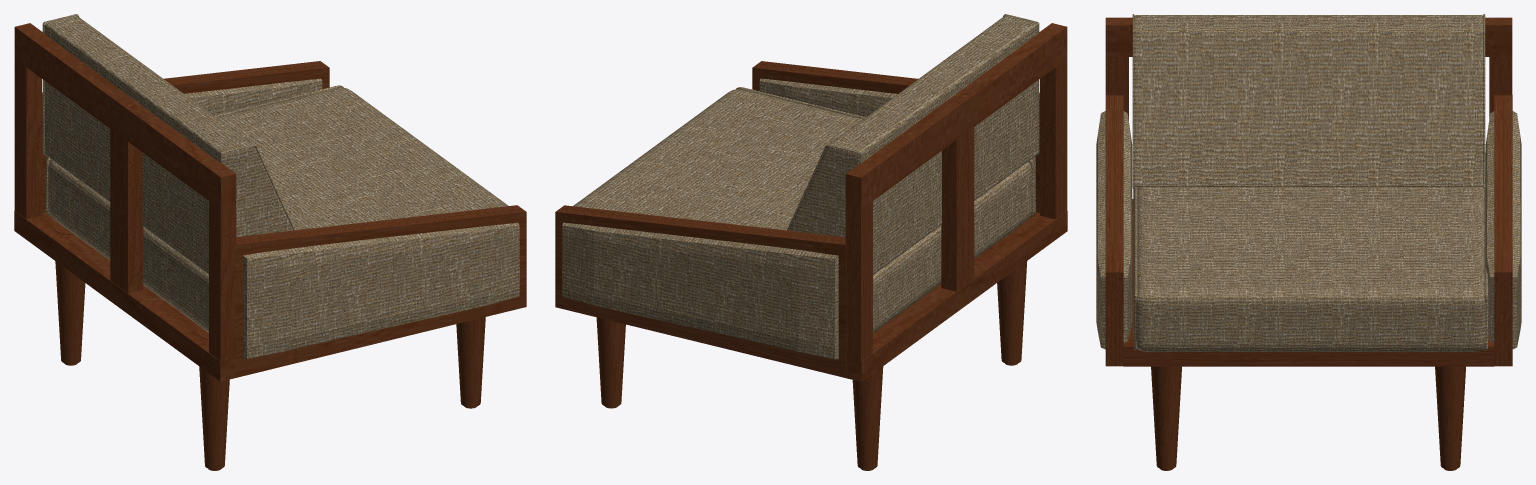
Rendered from Execchair1git.glb.
3 renders of one model, left to right at view 1: azimuth 30°, elevation 25°; view 2: azimuth 150°, elevation 25°; view 3: azimuth 270°, elevation 25°, orthographic.
Visible parts, largest first — view 1: Cube.019, Cylinder.014; view 2: Cube.019, Cylinder.014; view 3: Cube.019, Cylinder.014.
Boxes of the visible parts, x1,y1,x2,y2 form: Cube.019: [42, 14, 519, 358]; Cylinder.014: [14, 23, 526, 470]; Cube.019: [562, 14, 1039, 359]; Cylinder.014: [555, 23, 1067, 470]; Cube.019: [1096, 14, 1521, 351]; Cylinder.014: [1105, 17, 1512, 470].
Size of the model in its own units: 3.08 by 3.04 by 3.59.
2 materials, 2 textured.
